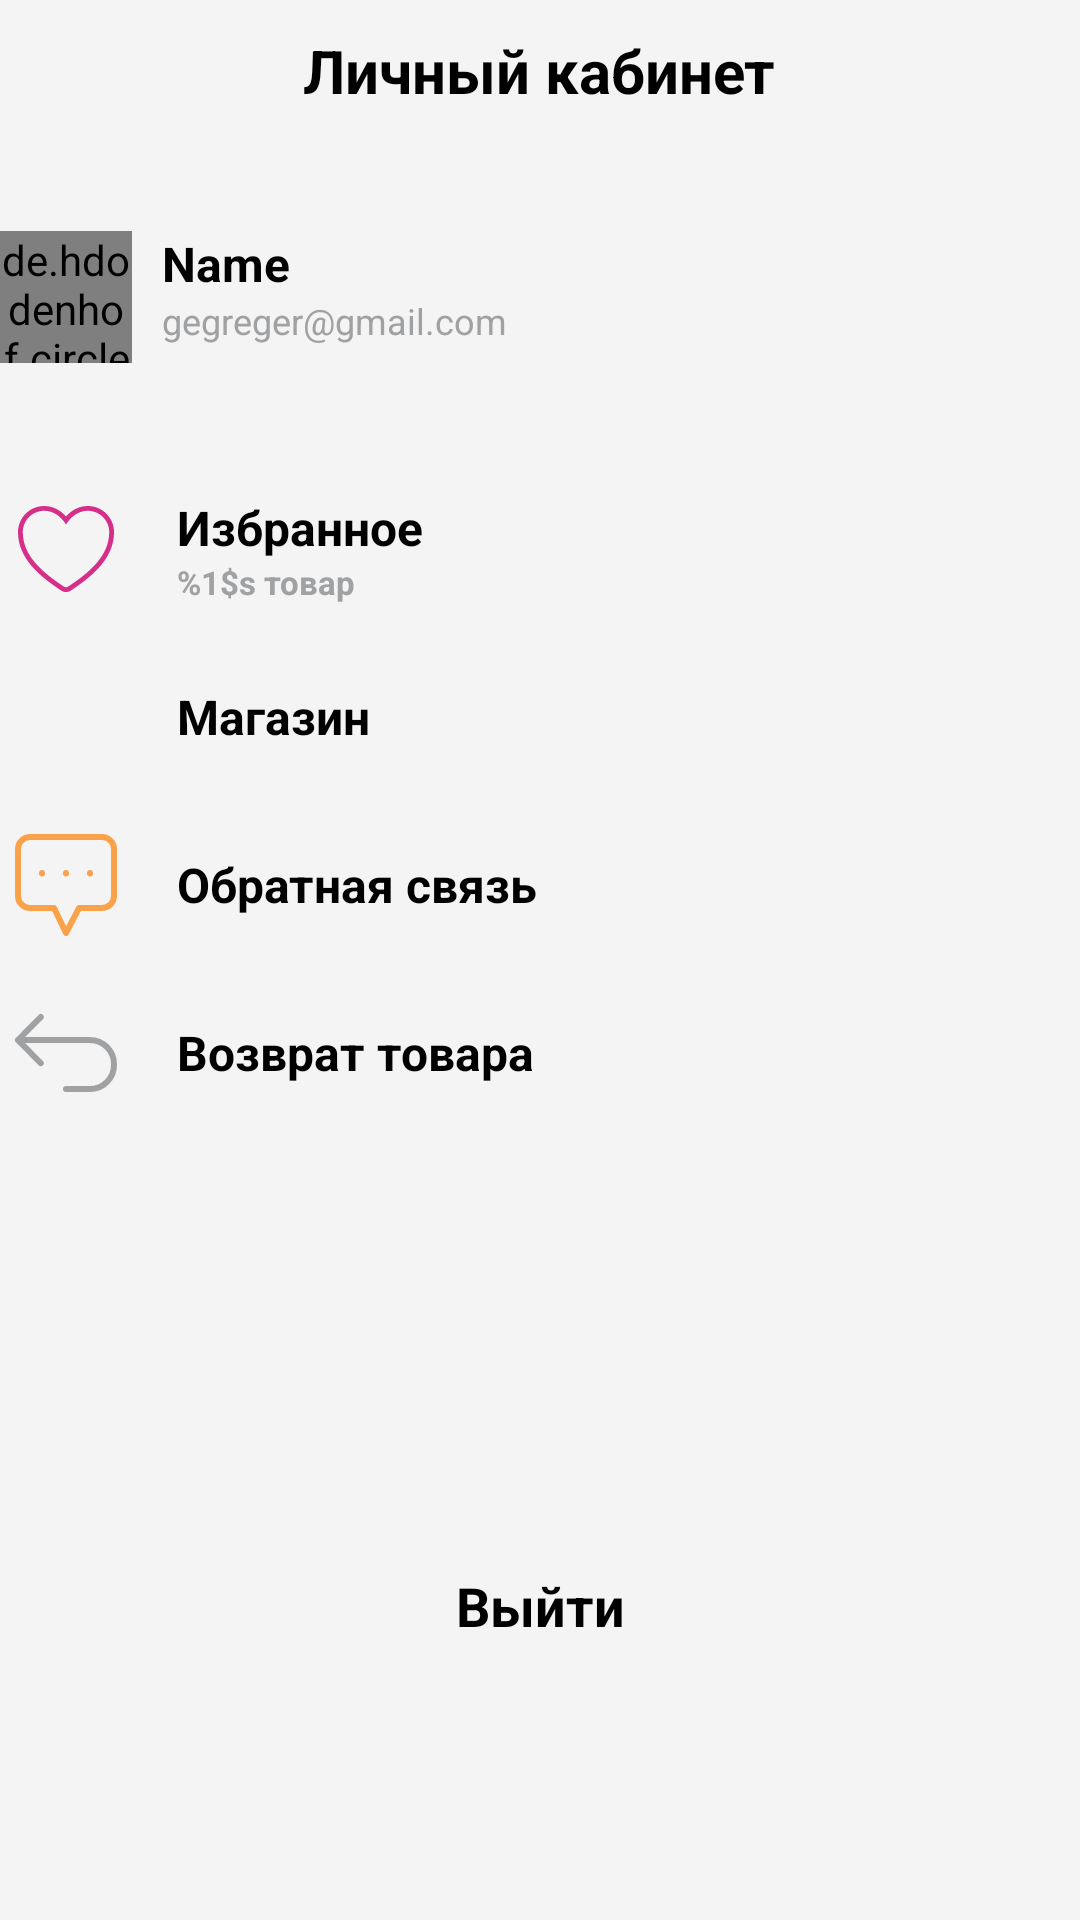

Icon click points for this 1080×1920 phone screenshot, format (x,y):
callback message: (66,885)
heart: (66,549)
return product: (66,1053)
